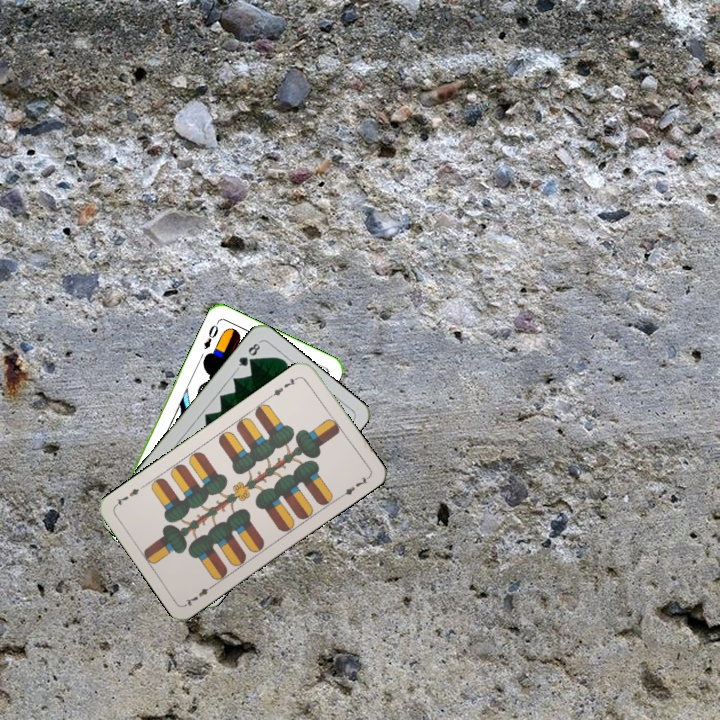E7: (266, 372, 302, 400), (181, 580, 217, 608)
EO: (200, 318, 221, 352)
G8: (233, 338, 263, 372)
